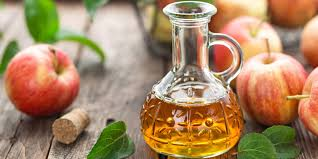apple: (3, 47, 81, 114), (236, 54, 307, 126), (218, 17, 293, 77)
